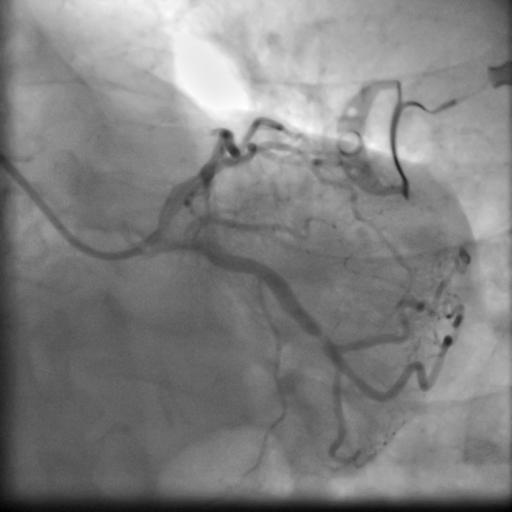Stenosis: (318, 328, 331, 349)
